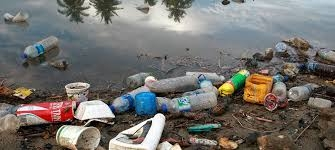paper: (52, 123, 102, 150), (61, 79, 94, 106)
plastic: (107, 111, 169, 150), (12, 95, 79, 126), (158, 90, 222, 118), (19, 32, 63, 66), (215, 64, 253, 99), (286, 77, 324, 102), (121, 68, 158, 89), (131, 91, 159, 117)
